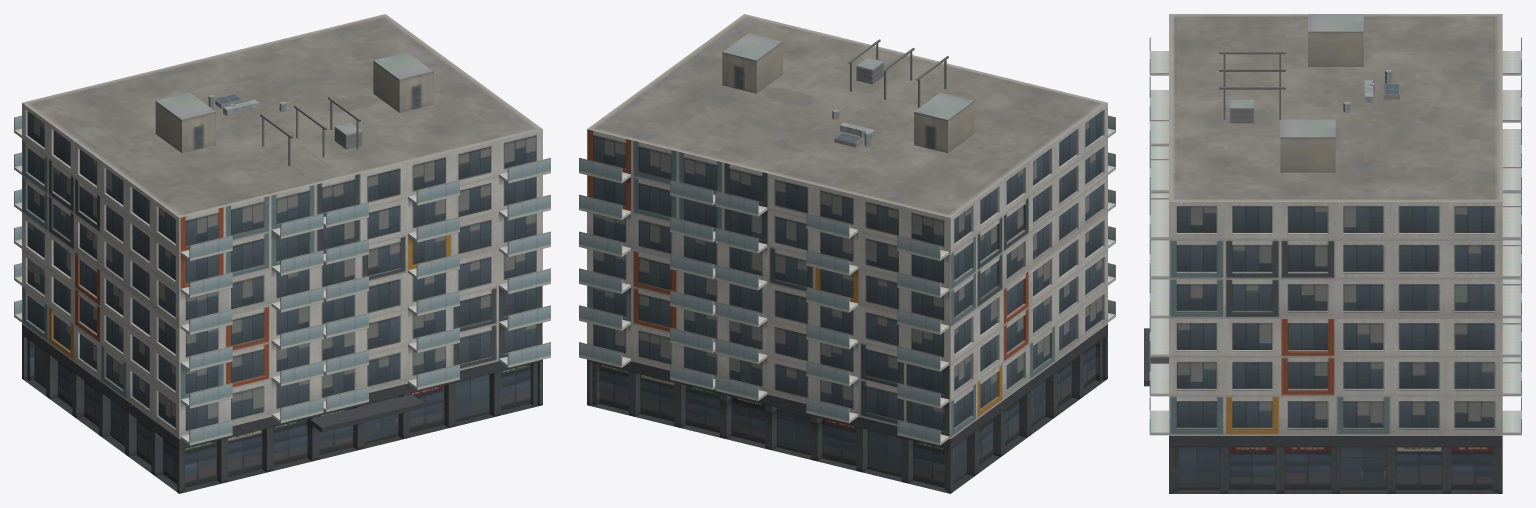
Rendered from sf_apartment_b.glb.
3 renders of one model, left to right at view 1: azimuth 30°, elevation 25°; view 2: azimuth 150°, elevation 25°; view 3: azimuth 270°, elevation 25°, orthographic. The views are drawn at different scales.
Visible parts, largest first — view 1: sf_apartment_b; view 2: sf_apartment_b; view 3: sf_apartment_b.
Part boxes in pixels (bbox=[...]): sf_apartment_b: bbox=[14, 14, 550, 493]; sf_apartment_b: bbox=[579, 14, 1115, 493]; sf_apartment_b: bbox=[1144, 14, 1521, 493].
Bounding box in the file's own units: 32 × 26 × 27.2.
1 material, 1 textured.
